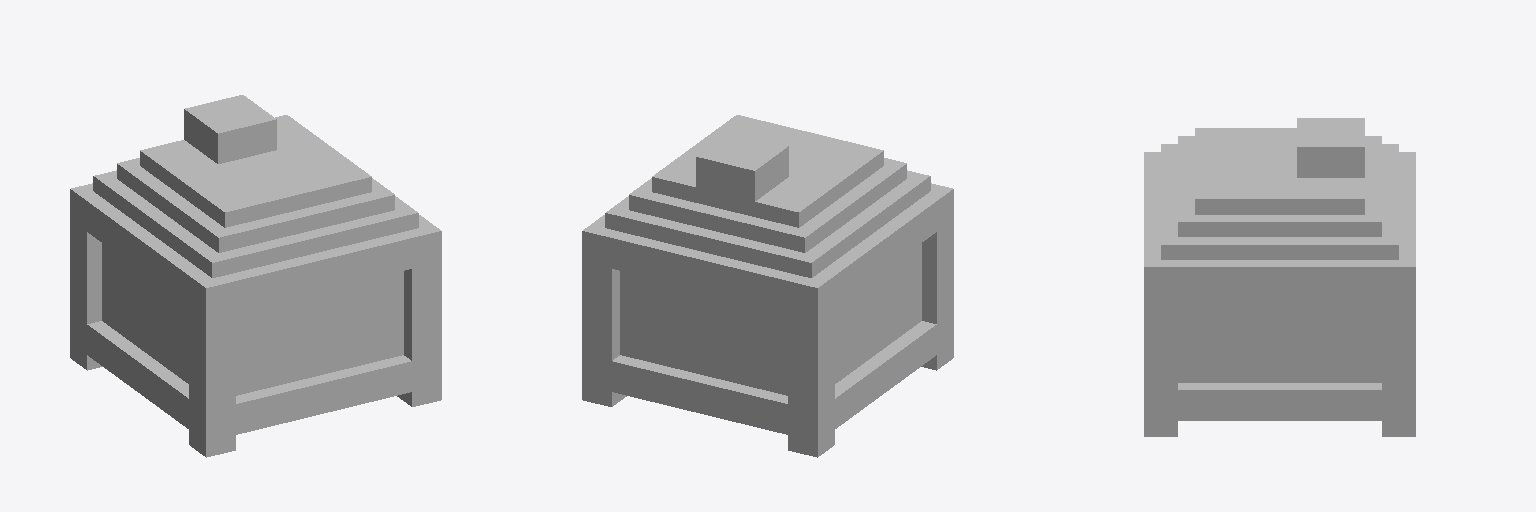
The model's file is power_generators_fueltank.obj.
3 renders of one model, left to right at view 1: azimuth 30°, elevation 25°; view 2: azimuth 150°, elevation 25°; view 3: azimuth 270°, elevation 25°, orthographic.
Visible parts, largest first — view 1: node_0_0_0.010; view 2: node_0_0_0.010; view 3: node_0_0_0.010.
Part boxes in pixels (x1,y1,x2,y2): node_0_0_0.010: (70, 95, 441, 457); node_0_0_0.010: (582, 115, 953, 457); node_0_0_0.010: (1144, 118, 1415, 436).
Size of the model in its own units: 1 by 1 by 1.